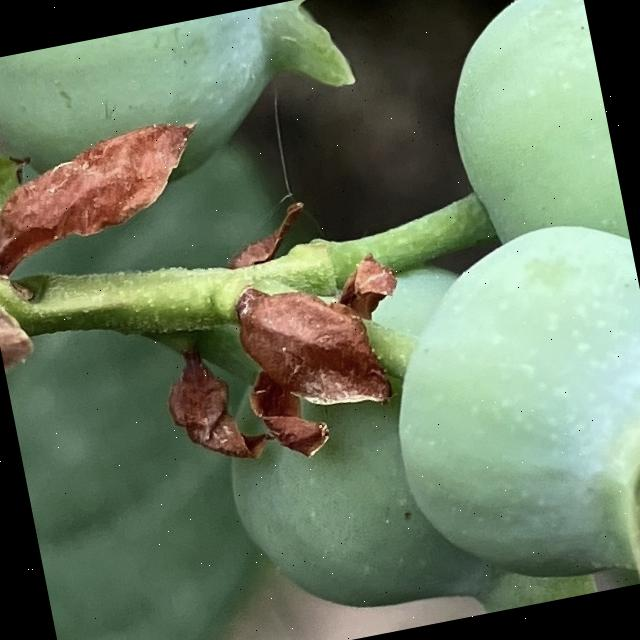Blueberries: (361, 206, 640, 624), (0, 0, 396, 195), (427, 0, 640, 336)
